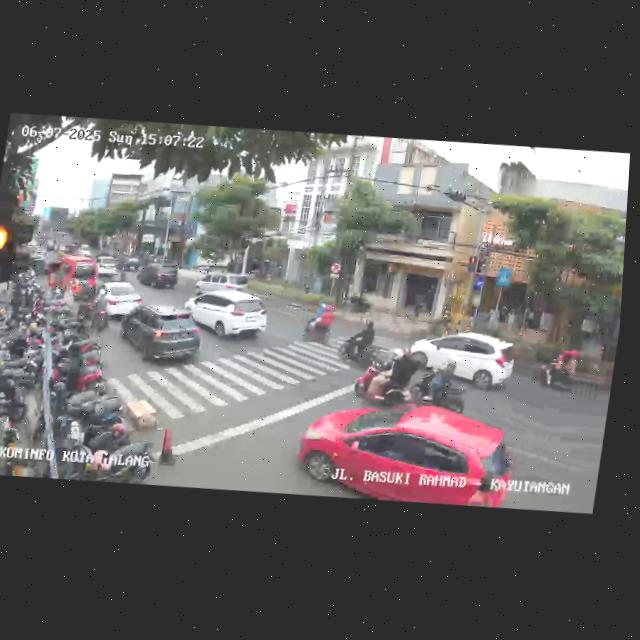car: (290, 391, 522, 513), (400, 324, 522, 398), (114, 298, 210, 372), (182, 285, 273, 347), (90, 279, 145, 323), (63, 253, 101, 303), (193, 270, 251, 299), (134, 260, 179, 293), (93, 253, 120, 280)
motorcycle: (353, 341, 422, 411), (403, 354, 472, 417), (528, 344, 584, 400), (337, 318, 381, 367), (300, 300, 337, 344), (92, 288, 113, 332)
